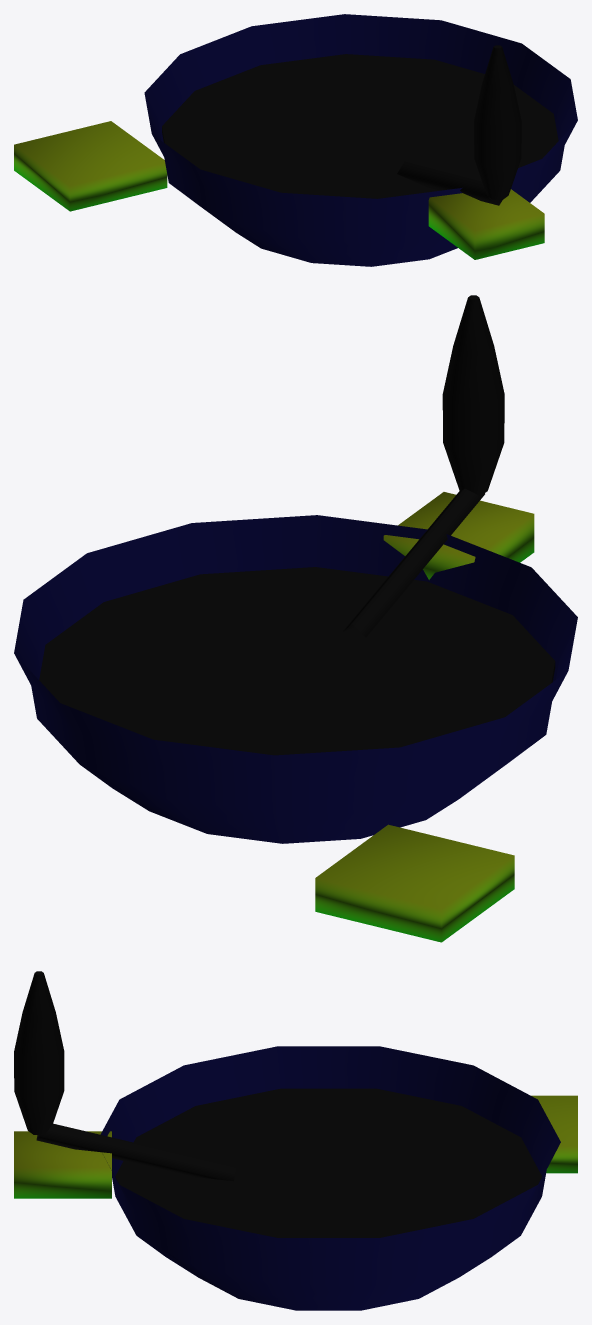
File: votive_lamp.glb
3 views of the same model, one above another, from view 1: azimuth 30°, elevation 25°; view 2: azimuth 150°, elevation 25°; view 3: azimuth 270°, elevation 25° (orthographic). The views are drawn at different scales.
Parts seen in each view (by area): view 1: votive_lamp; view 2: votive_lamp; view 3: votive_lamp.
Part boxes in pixels (x1=…): votive_lamp: x1=14, y1=14, x2=577, y2=266; votive_lamp: x1=14, y1=295, x2=577, y2=942; votive_lamp: x1=14, y1=971, x2=577, y2=1310.
Size of what is drawn, in the model's own units: 0.1604 by 0.097 by 0.1783.
